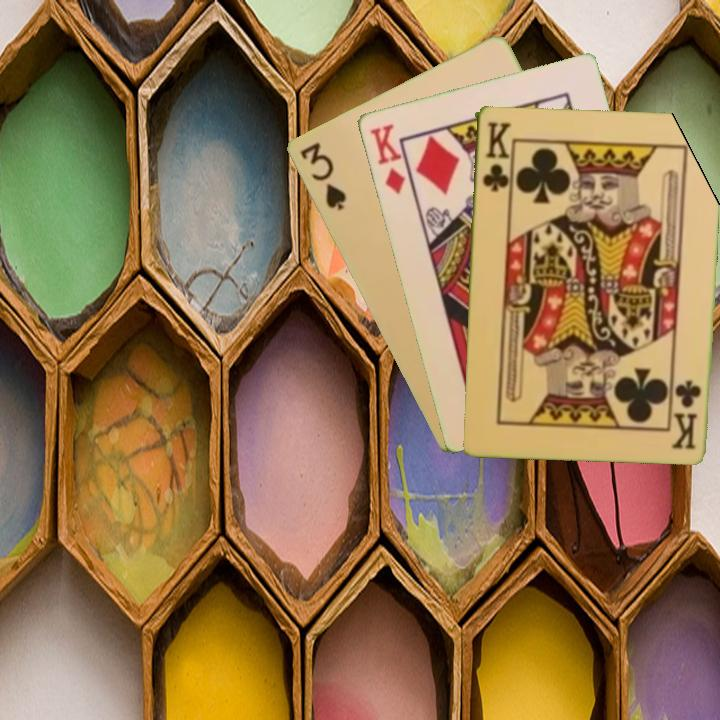3s: (295, 138, 349, 213)
Kc: (479, 117, 512, 194), (671, 376, 704, 452)
Kd: (366, 120, 408, 197)
